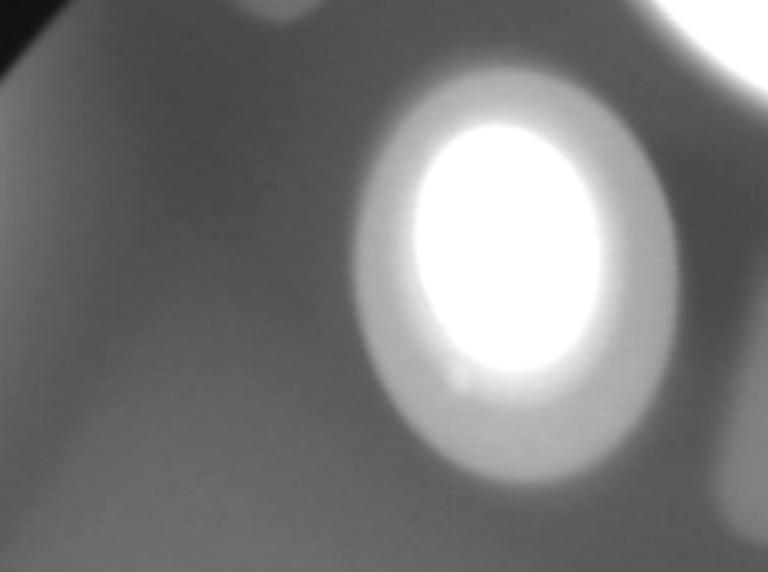defect: (447, 355, 481, 413)
